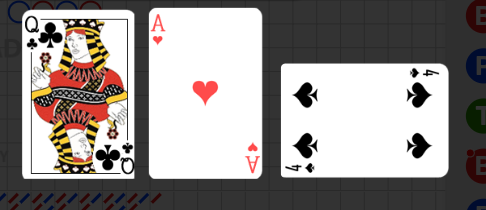4S: (284, 162, 318, 175), (407, 67, 441, 80)
QC: (89, 132, 133, 179), (22, 12, 66, 58)
